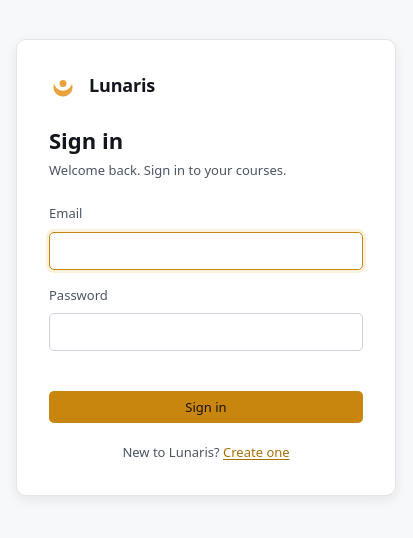
Test: AuthScreen › surfaces a sign-in error in an alert
The width and height of the screenshot is (413, 538).
In the field labelled "Email": (206,250) x1=49 y1=232 x2=363 y2=270, type "a@b.com"
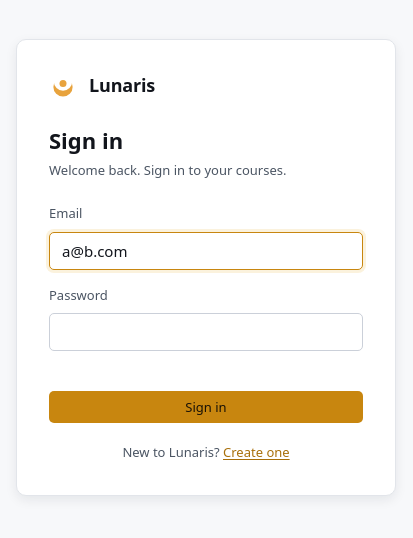
In the password field labelled "Password": (206,332) x1=49 y1=313 x2=363 y2=351, type "secret1"
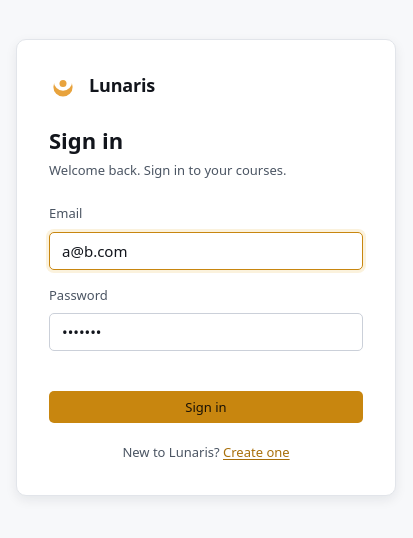
Click the button "Sign in": (206,407) x1=49 y1=391 x2=363 y2=423
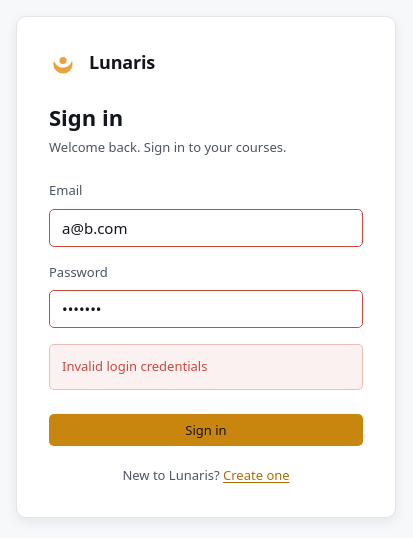
Check: the message reads "Invalid login credentials", box x1=62 y1=357 x2=207 y2=375
